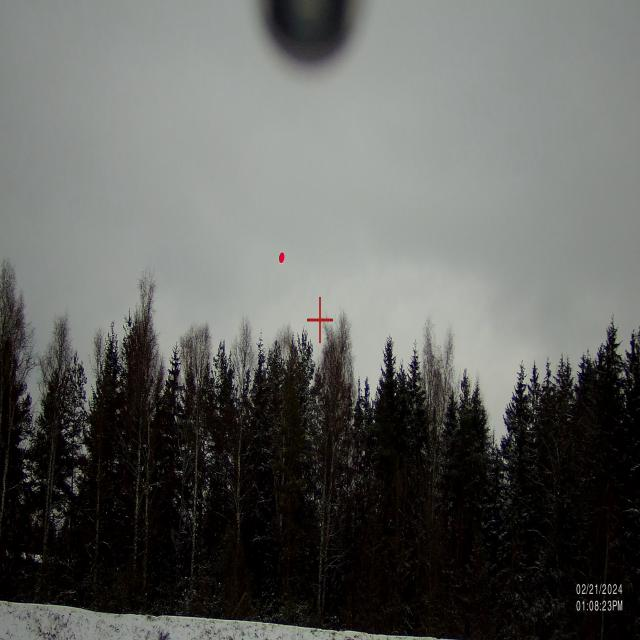entire: (276, 247, 286, 268)
